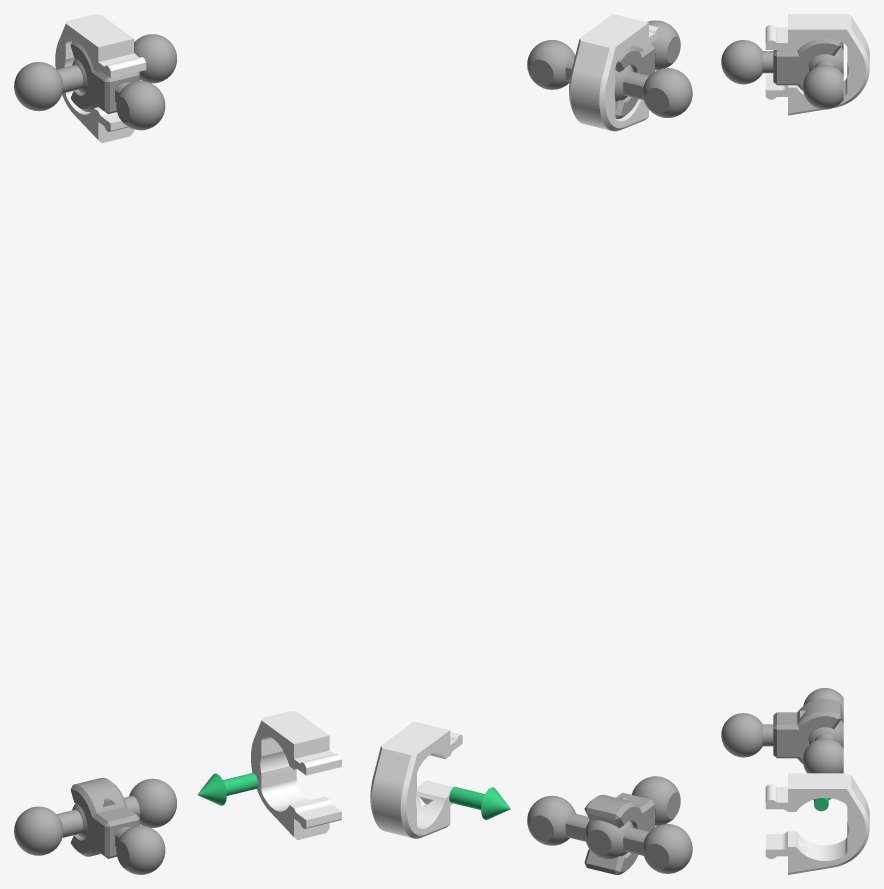
Rendered from hips_b.glb.
The picture shows the model from 3 angles, left to right: view 1: azimuth 30°, elevation 25°; view 2: azimuth 150°, elevation 25°; view 3: azimuth 270°, elevation 25°; orthographic projection. The views are drawn at different scales.
Parts seen in each view (by area): view 1: Body1.027, Body1.026, Body1.024, Body1.025, Body1.022, Body1.023, Arrow.004; view 2: Body1.027, Body1.025, Body1.024, Body1.022, Body1.026, Body1.023, Arrow.004; view 3: Body1.027, Body1.024, Body1.026, Body1.023, Body1.025, Body1.022.
Part boxes in pixels (<box>): Body1.027: <box>251,711,341,839</box>; Body1.026: <box>70,777,165,874</box>; Body1.024: <box>55,14,146,143</box>; Body1.025: <box>14,778,176,855</box>; Body1.022: <box>14,34,176,111</box>; Body1.023: <box>70,40,165,130</box>; Arrow.004: <box>197,773,258,805</box>; Body1.027: <box>370,721,462,838</box>; Body1.025: <box>527,795,692,873</box>; Body1.024: <box>569,14,661,131</box>; Body1.022: <box>527,40,692,117</box>; Body1.026: <box>584,776,680,874</box>; Body1.023: <box>615,20,680,118</box>; Arrow.004: <box>449,786,510,819</box>; Body1.027: <box>765,773,869,874</box>; Body1.024: <box>765,14,869,115</box>; Body1.026: <box>721,698,841,763</box>; Body1.023: <box>721,38,841,90</box>; Body1.025: <box>803,688,843,773</box>; Body1.022: <box>803,42,843,109</box>.
Bounding box in the file's own units: 41 × 113 × 19.99.
